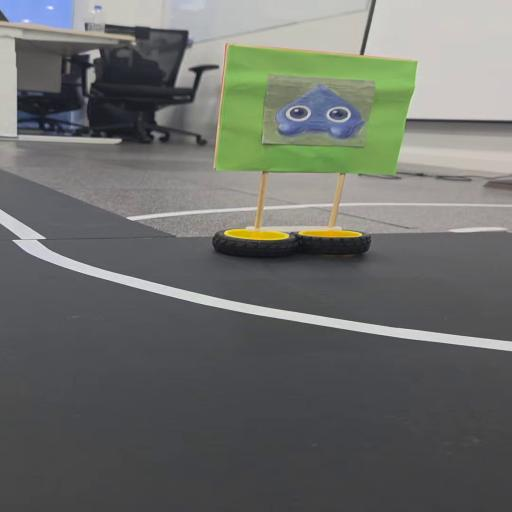Sign_B: (208, 34, 432, 265)
